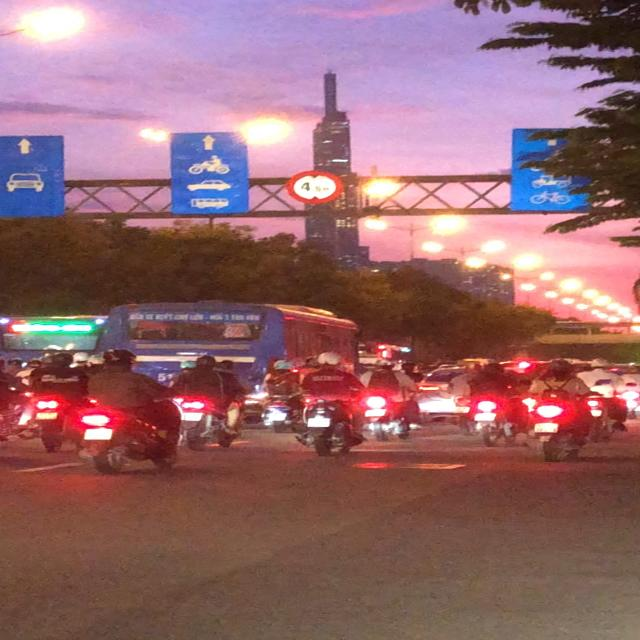Bien bao han che chieu cao: (280, 164, 346, 208)
